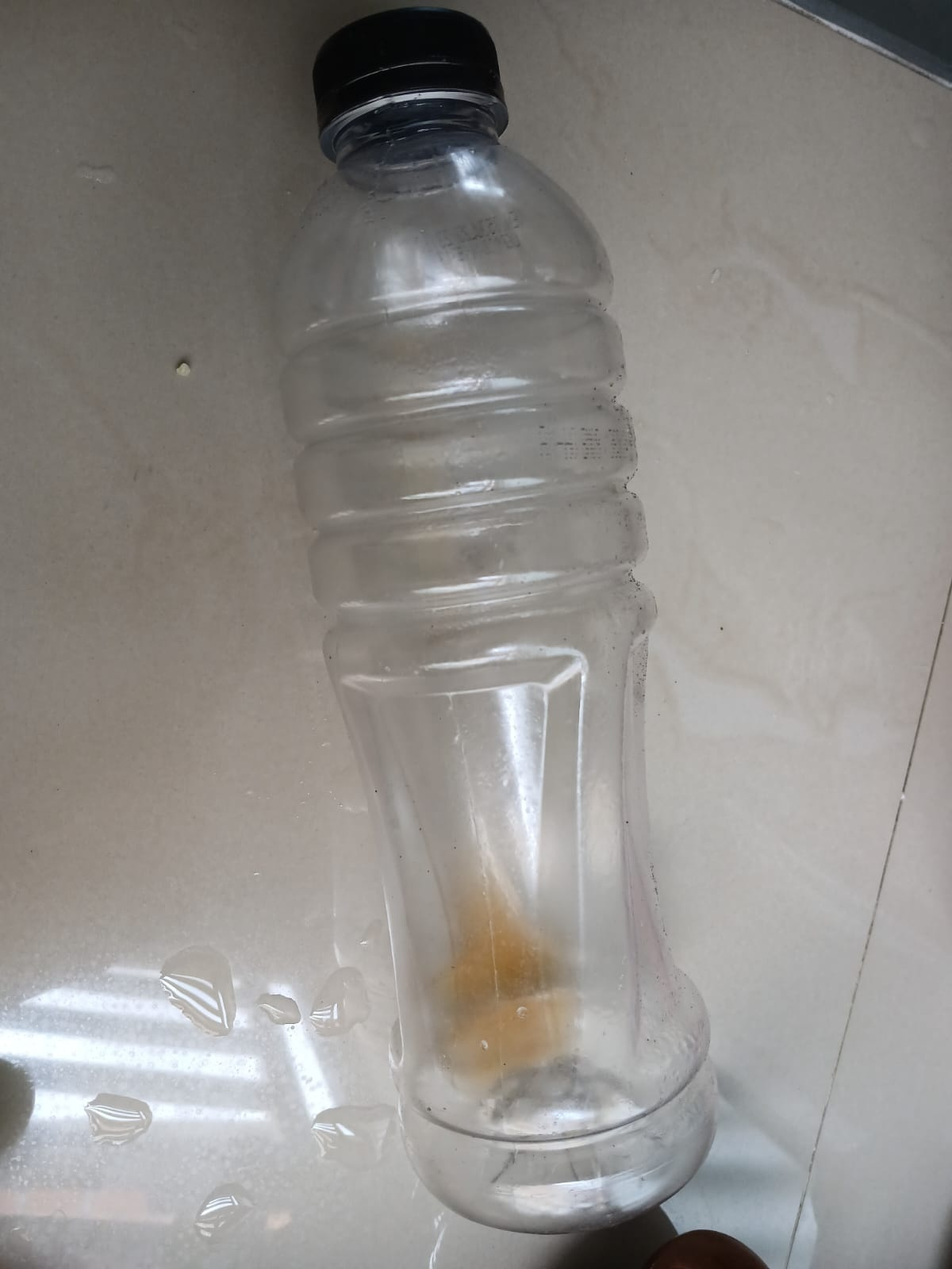Plastico: (269, 4, 710, 1235)
